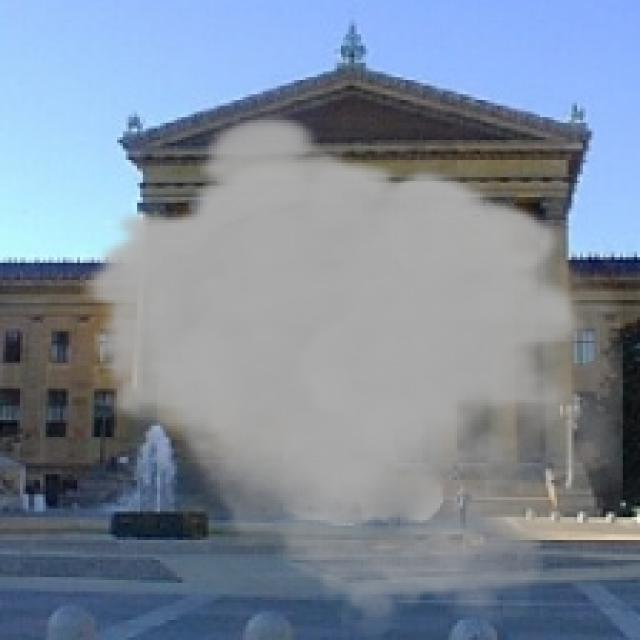smoke: (80, 112, 626, 637)
